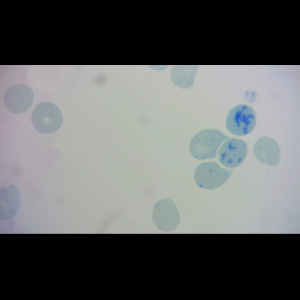aggregate reticulocyte: (225, 103, 258, 136), (217, 136, 249, 170)
erythrocyte: (30, 101, 64, 135), (1, 82, 35, 114), (252, 135, 283, 168)
punctate reticulocyte: (188, 127, 230, 160), (193, 160, 234, 191), (151, 198, 182, 233)
